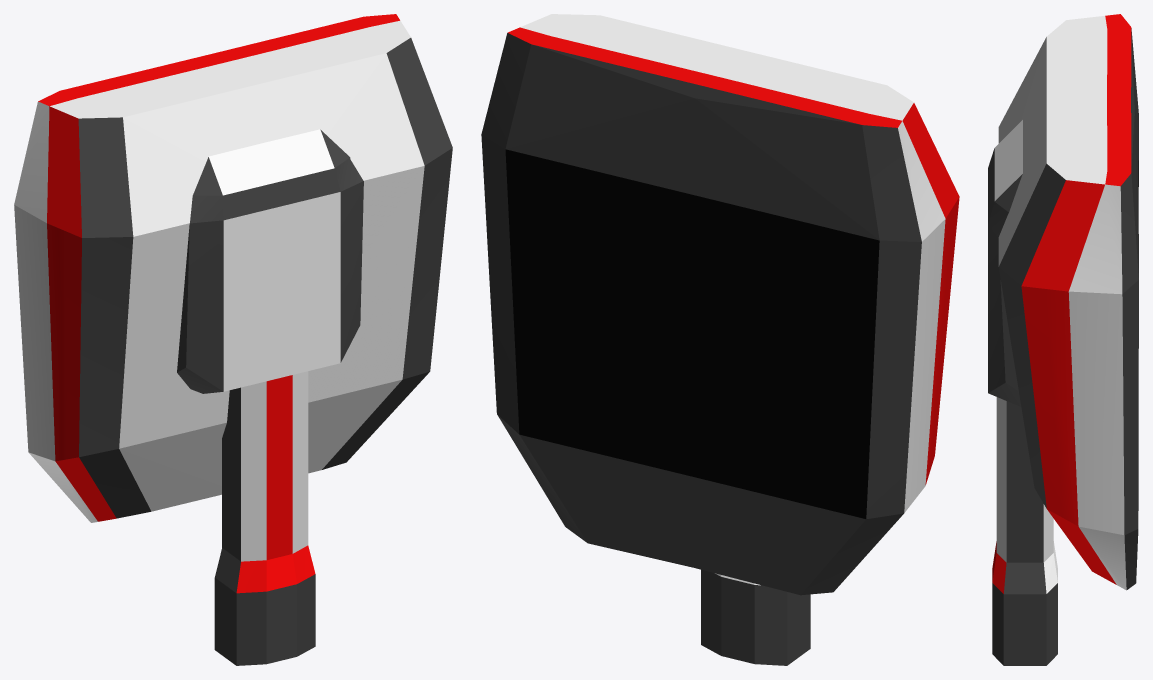
Rendered from armored.obj.
3 views of the same model, side by side, from view 1: azimuth 30°, elevation 25°; view 2: azimuth 150°, elevation 25°; view 3: azimuth 270°, elevation 25° (orthographic). The views are drawn at different scales.
Visible parts, largest first — view 1: Box017, Box019, Box020; view 2: Box017, Box020; view 3: Box017, Box020, Box019.
Boxes of the visible parts, left/top/right/bottom form: Box017: left=14, top=14, right=452, bottom=522; Box019: left=177, top=129, right=363, bottom=393; Box020: left=214, top=371, right=315, bottom=665; Box017: left=481, top=14, right=959, bottom=595; Box020: left=701, top=569, right=810, bottom=665; Box017: left=998, top=14, right=1138, bottom=590; Box020: left=992, top=397, right=1057, bottom=665; Box019: left=988, top=120, right=1022, bottom=406.
Bounding box in the file's own units: 1.44 × 1.89 × 0.4722.
